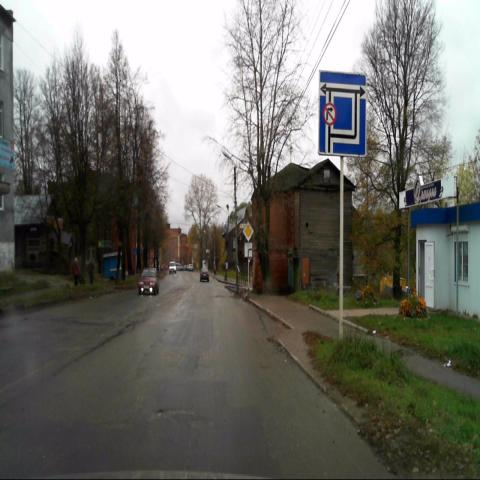3_18: (322, 101, 336, 126)
